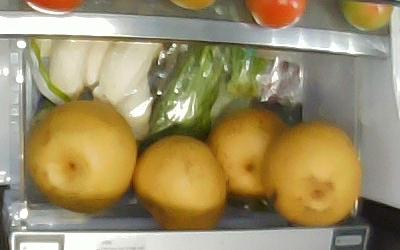pear: (26, 102, 137, 213), (263, 121, 360, 226), (135, 134, 226, 233), (208, 109, 302, 202)
